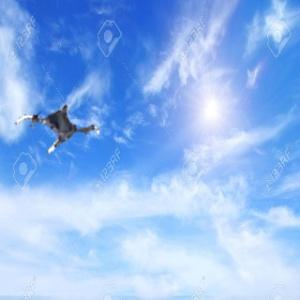drone: (18, 86, 102, 170)
